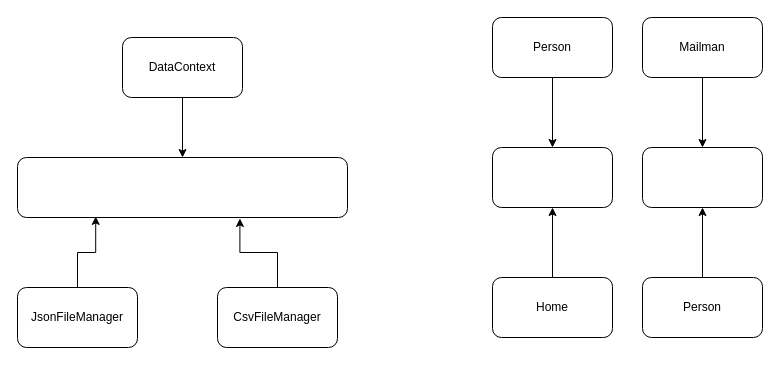
Some shapes in this 780 by 365 pixel diagram are drawn without their labels. Each missing label, with the centre of its shape:
"Interface" belongs at pixel 182 187.
"Mailbox" belongs at pixel 702 177.
"Voicemail" belongs at pixel 552 177.
